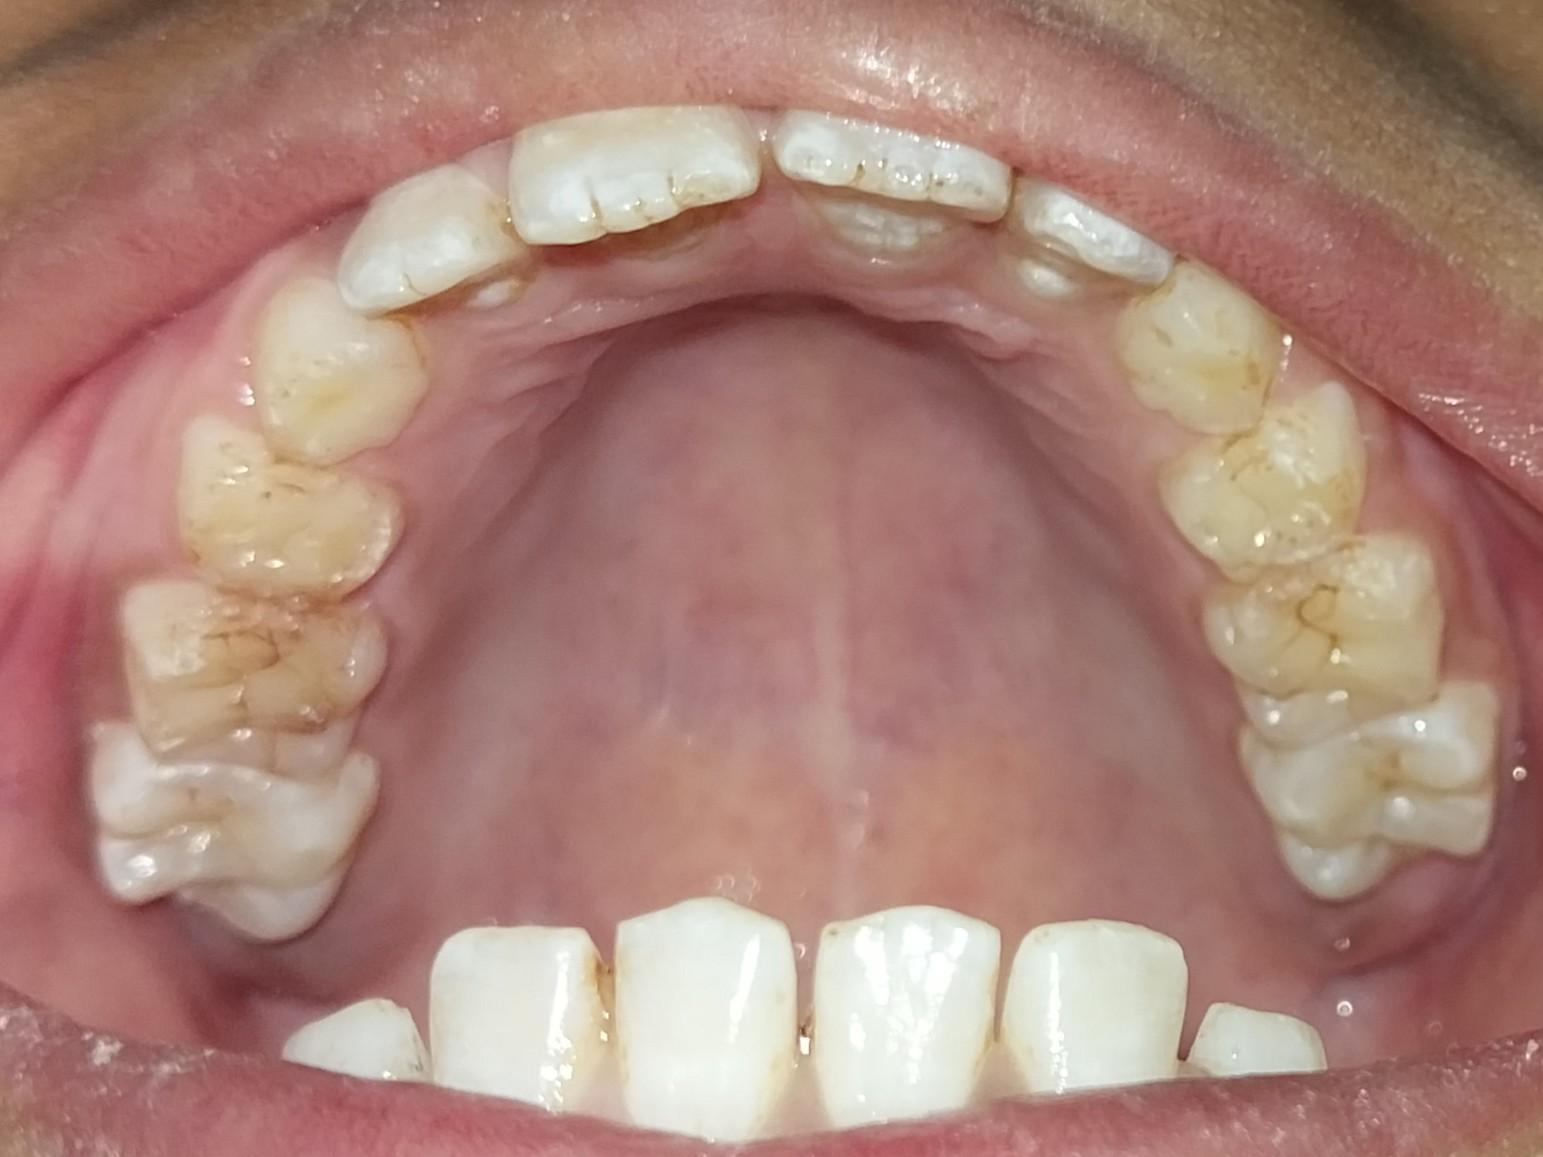d: (116, 578, 393, 772), (1206, 554, 1451, 741)
